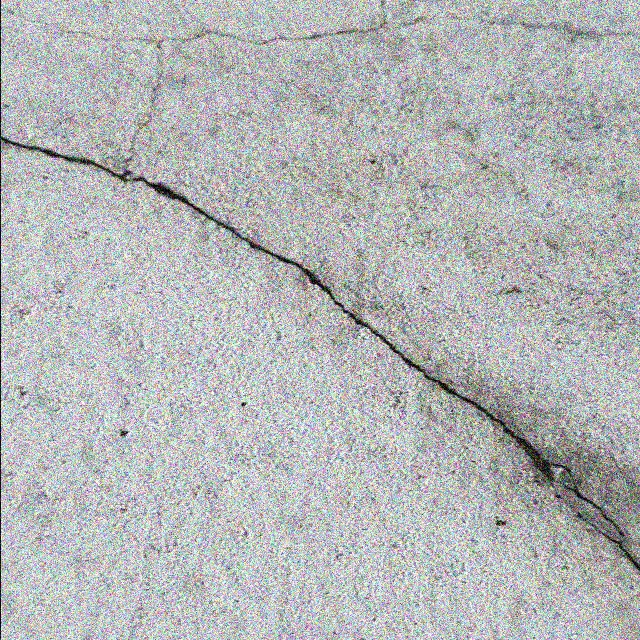SurfaceCrack: (1, 96, 640, 638)
